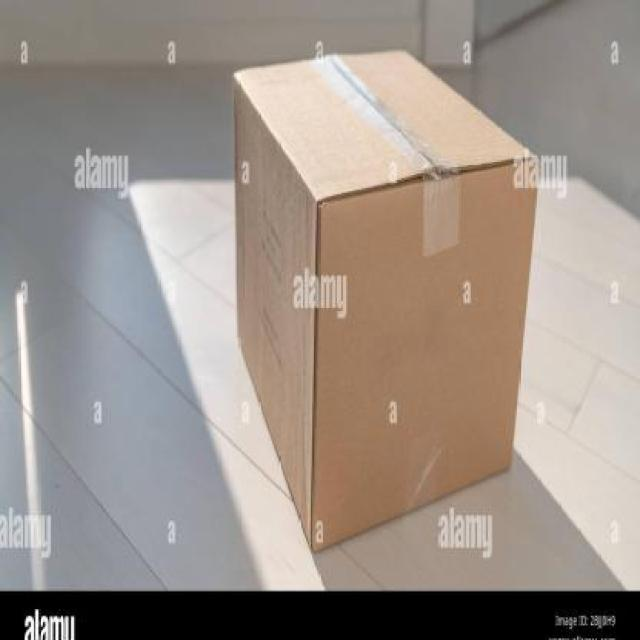box: (228, 39, 542, 565)
